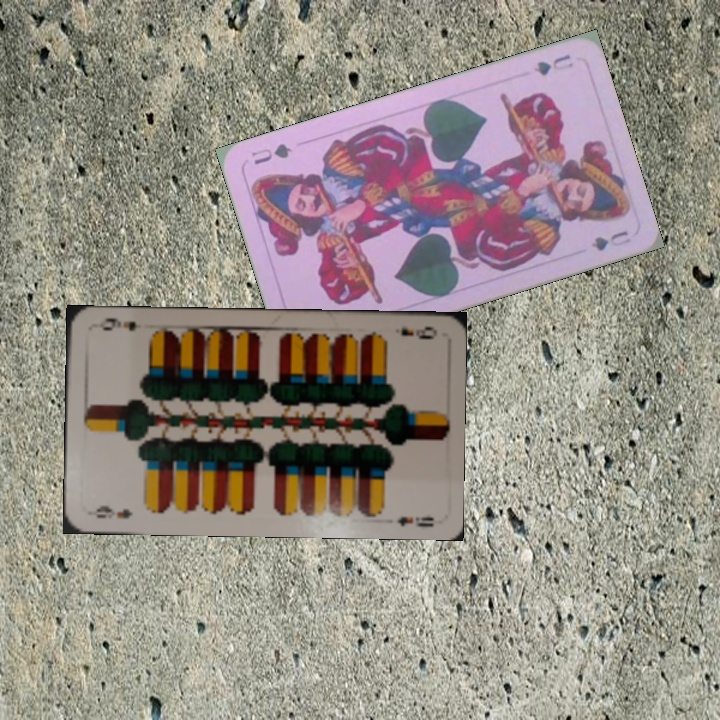E9: (92, 502, 135, 521), (397, 322, 440, 341)
GU: (529, 50, 576, 78)
